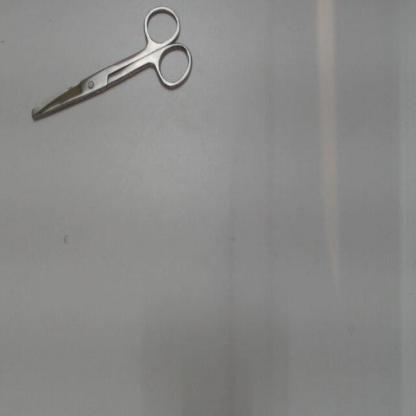Dressing Scissors: (22, 4, 201, 135)
